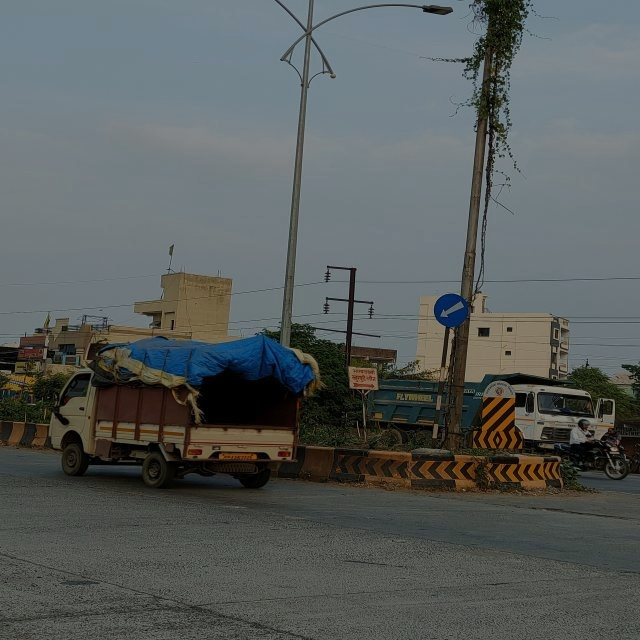R.301e: (433, 293, 472, 333)
